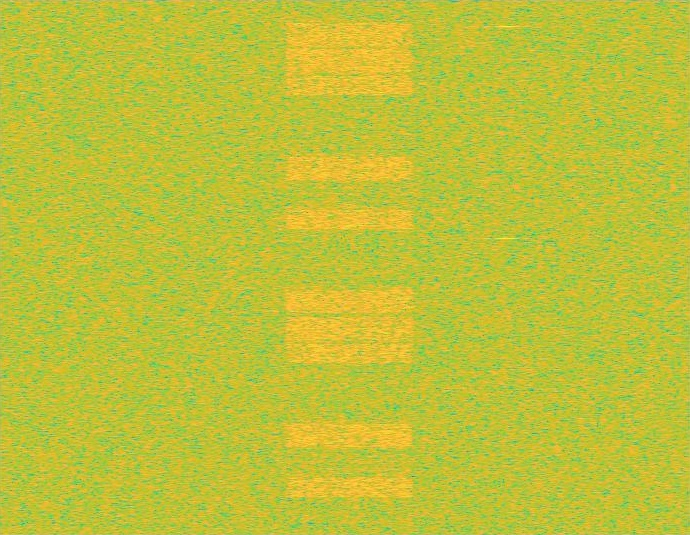LTE: (281, 0, 419, 534)
Radar: (500, 0, 514, 534)
